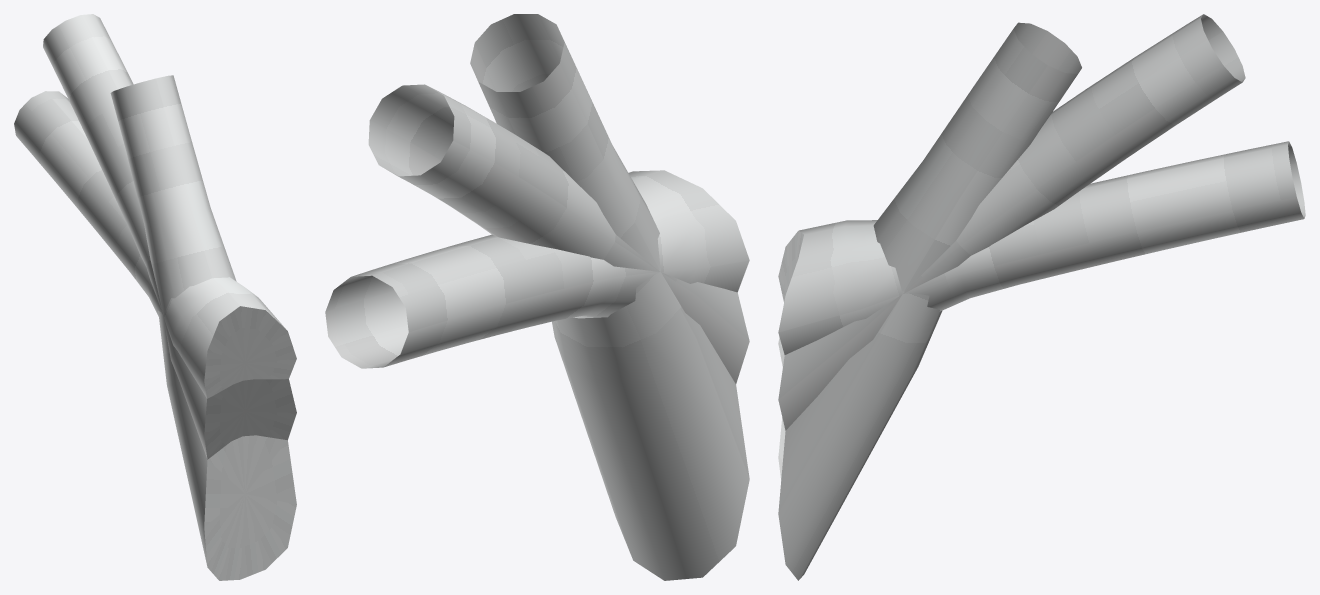
File: luminairearm_vannuystriple_c0_thin.obj
The picture shows the model from 3 angles, left to right: view 1: azimuth 30°, elevation 25°; view 2: azimuth 150°, elevation 25°; view 3: azimuth 270°, elevation 25°; orthographic projection. The views are drawn at different scales.
Visible parts, largest first — view 1: luminairearm_vannuystriple_c0_thin; view 2: luminairearm_vannuystriple_c0_thin; view 3: luminairearm_vannuystriple_c0_thin.
Boxes of the visible parts, <box> form: luminairearm_vannuystriple_c0_thin: <box>14,14,296,580</box>; luminairearm_vannuystriple_c0_thin: <box>325,14,749,580</box>; luminairearm_vannuystriple_c0_thin: <box>778,14,1305,580</box>.
Bounding box in the file's own units: 0.3375 × 1.56 × 1.34.
